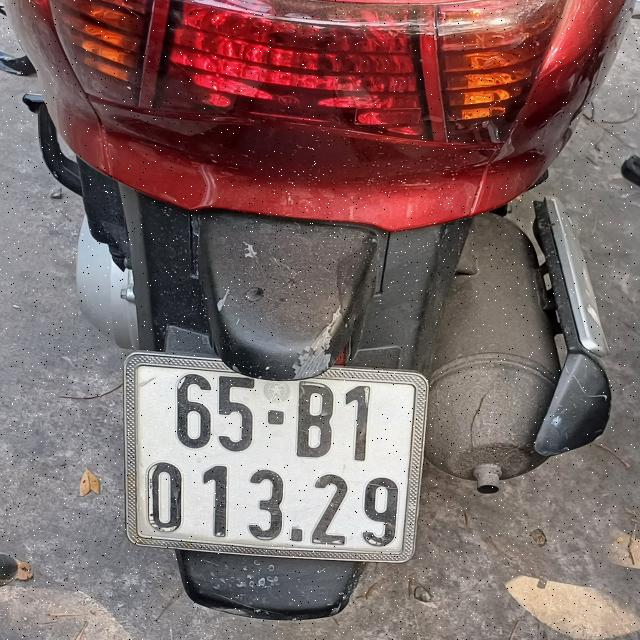0: (146, 459, 187, 538)
1: (343, 384, 375, 460), (200, 464, 232, 538)
2: (310, 469, 348, 553)
3: (244, 465, 284, 541)
5: (214, 375, 258, 454)
6: (174, 370, 212, 452)
9: (357, 476, 401, 549)
B: (292, 376, 335, 458)
